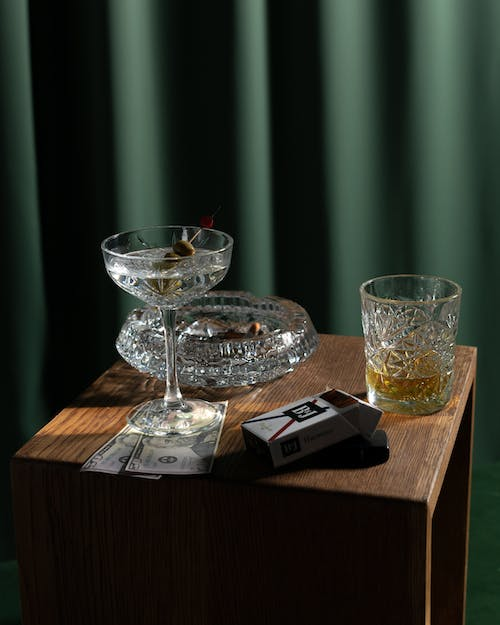alcohol: (98, 222, 235, 442), (357, 270, 465, 418)
cigarette: (240, 383, 384, 475), (243, 319, 263, 339)
